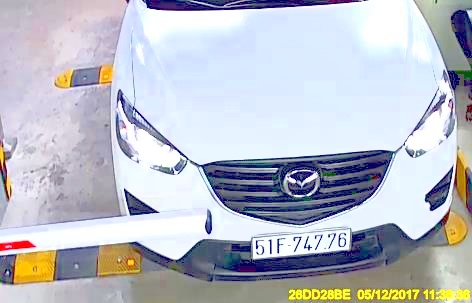plate: (252, 229, 352, 254)
